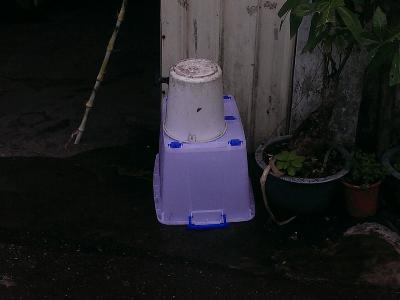box: (156, 92, 256, 226)
bucket: (164, 59, 229, 142)
